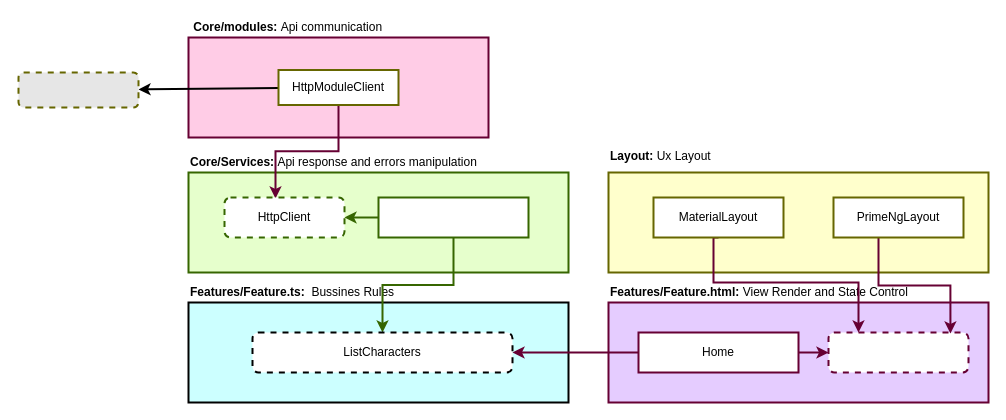
Image size: 1006x420. Some labels were removed from this diagram. Each missing label, with the box of its shape:
HttpModule: (17, 71, 139, 108)
Layout: (827, 331, 969, 373)
RemoteListCharacters: (377, 196, 529, 238)
